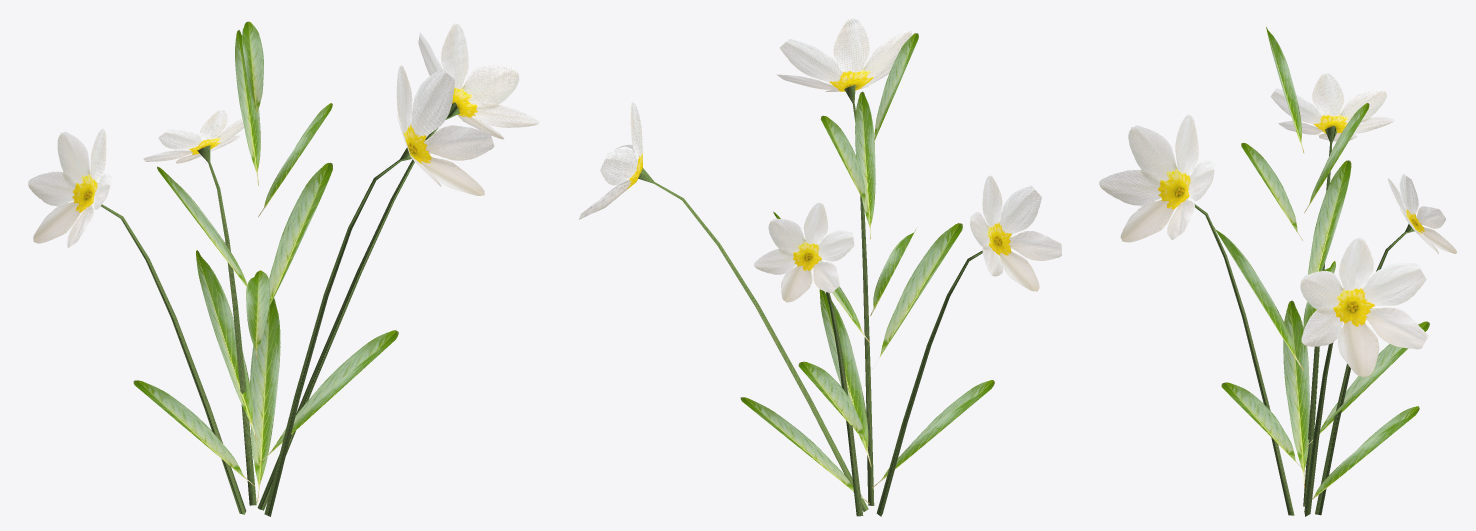
File: whitedaffodil.glb
The picture shows the model from 3 angles, left to right: view 1: azimuth 30°, elevation 25°; view 2: azimuth 150°, elevation 25°; view 3: azimuth 270°, elevation 25°; orthographic projection. The views are drawn at different scales.
Parts seen in each view (by area): view 1: tree.003; view 2: tree.003; view 3: tree.003.
Part boxes in pixels (x1,y1,x2,y2): tree.003: (28,21,539,516); tree.003: (579,18,1061,516); tree.003: (1099,27,1456,516).
Size of the model in its own units: 102 by 101 by 70.46.
3 materials, 3 textured.
